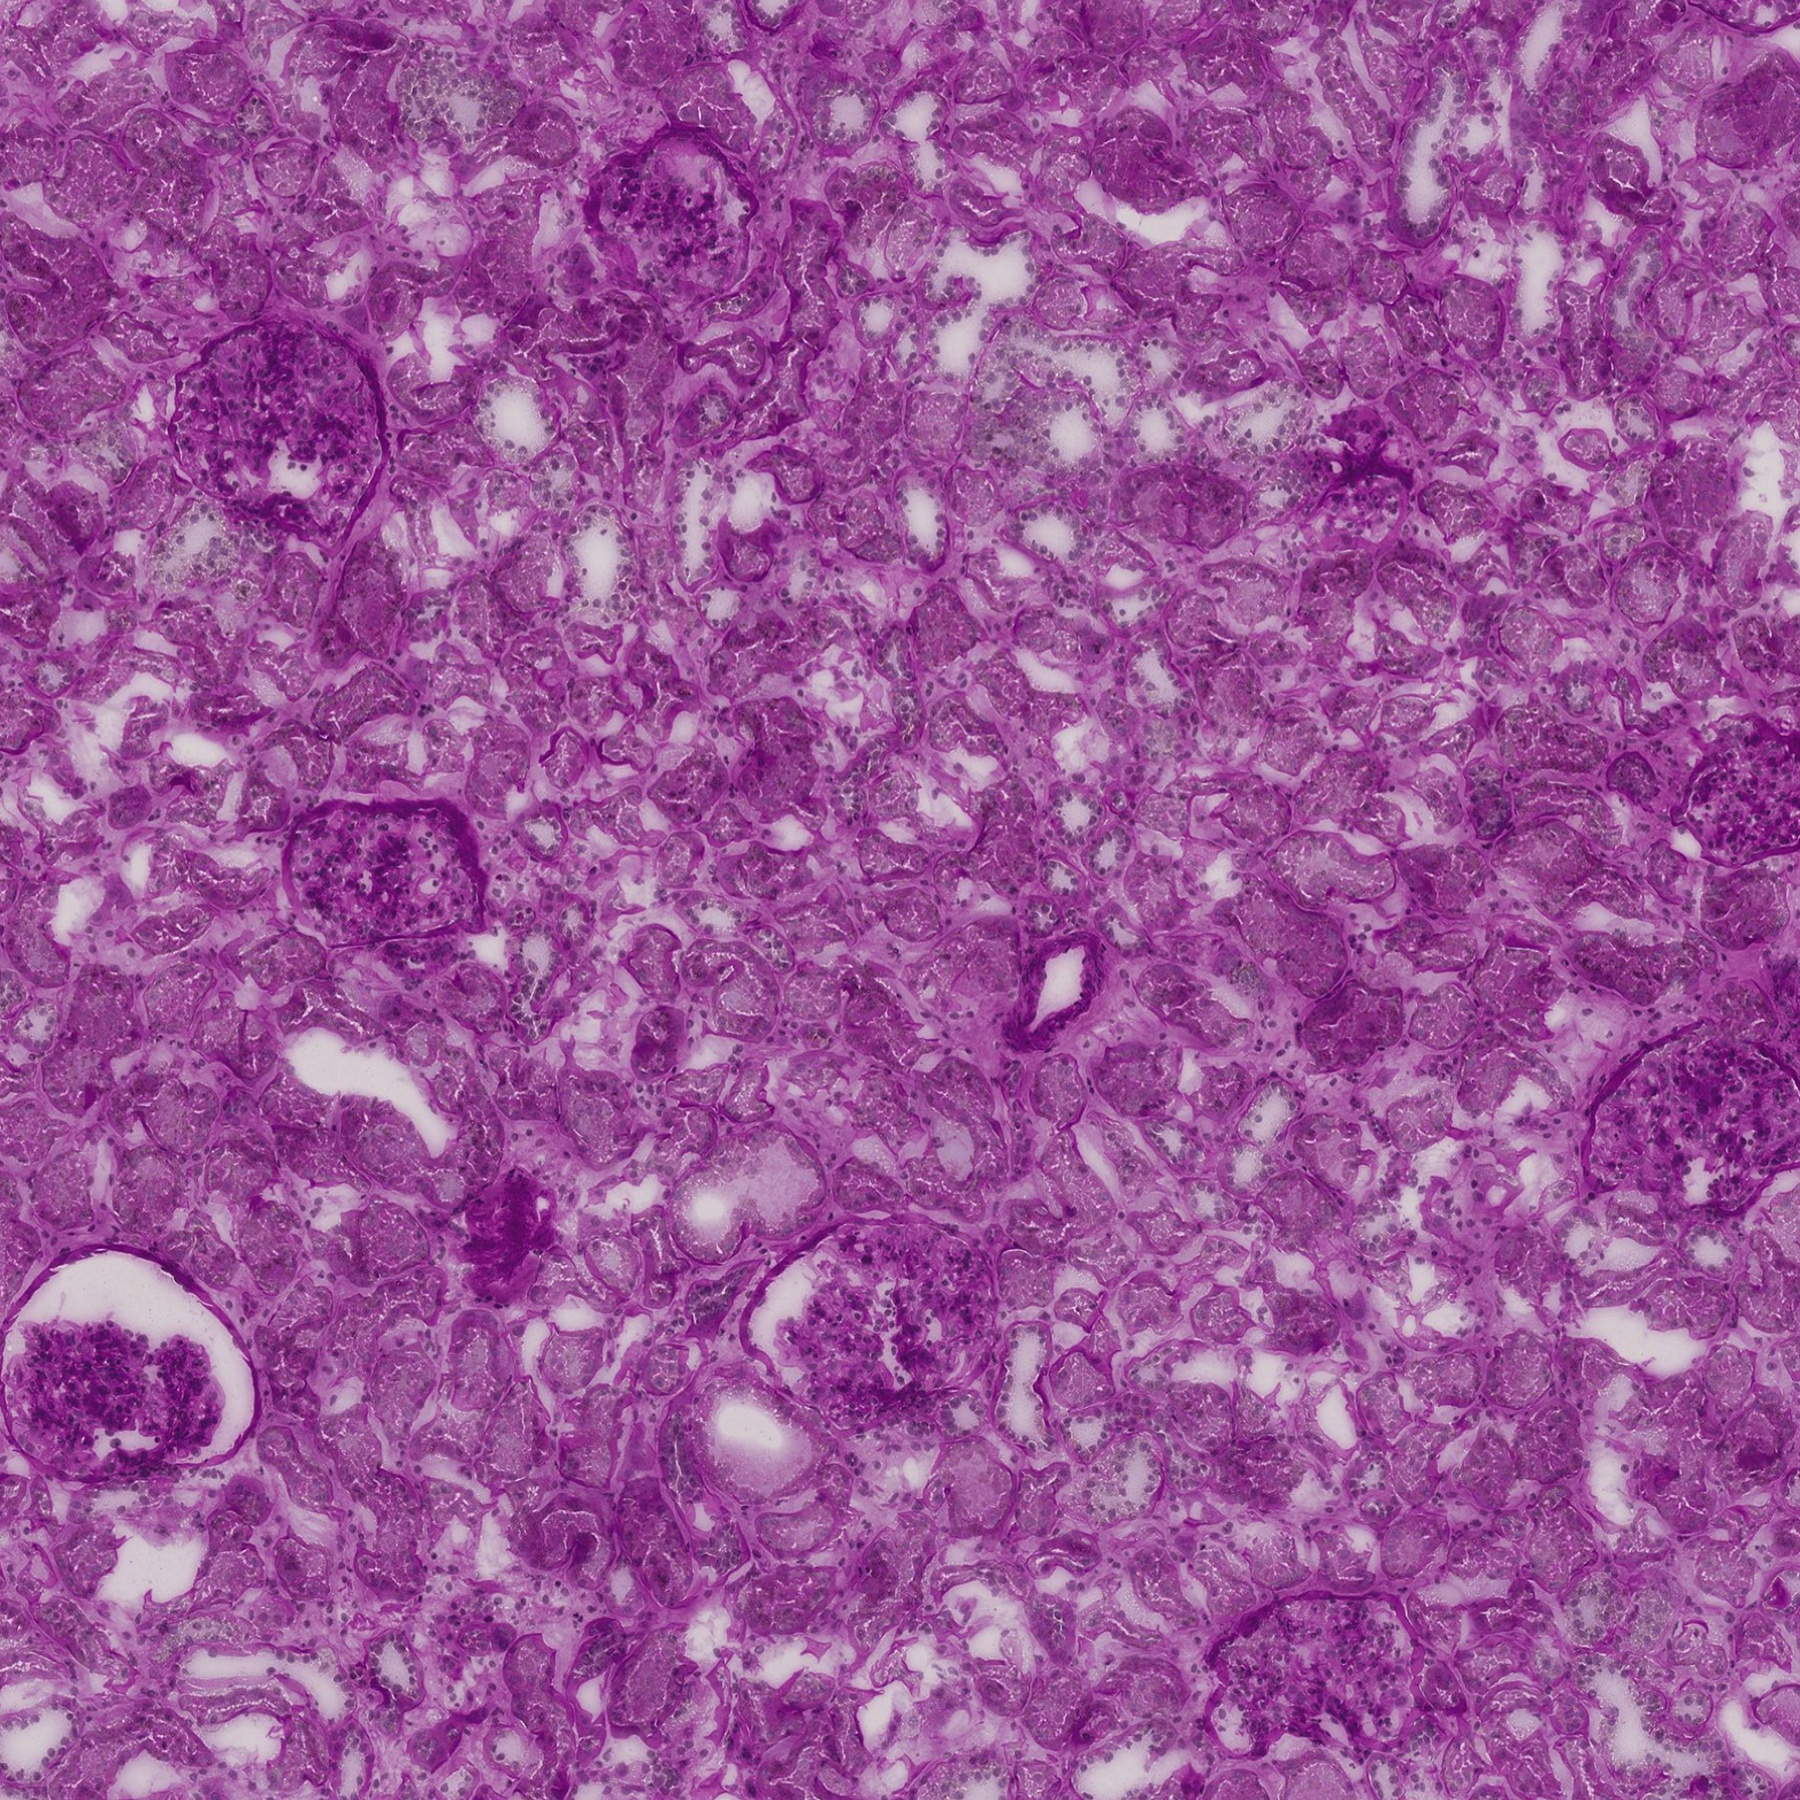Glomeruli: (743, 1212, 1005, 1441), (166, 316, 397, 551), (5, 1294, 247, 1479), (1582, 1024, 1800, 1221), (1198, 1587, 1426, 1759), (280, 795, 486, 945), (580, 129, 758, 298), (1685, 725, 1800, 865)
